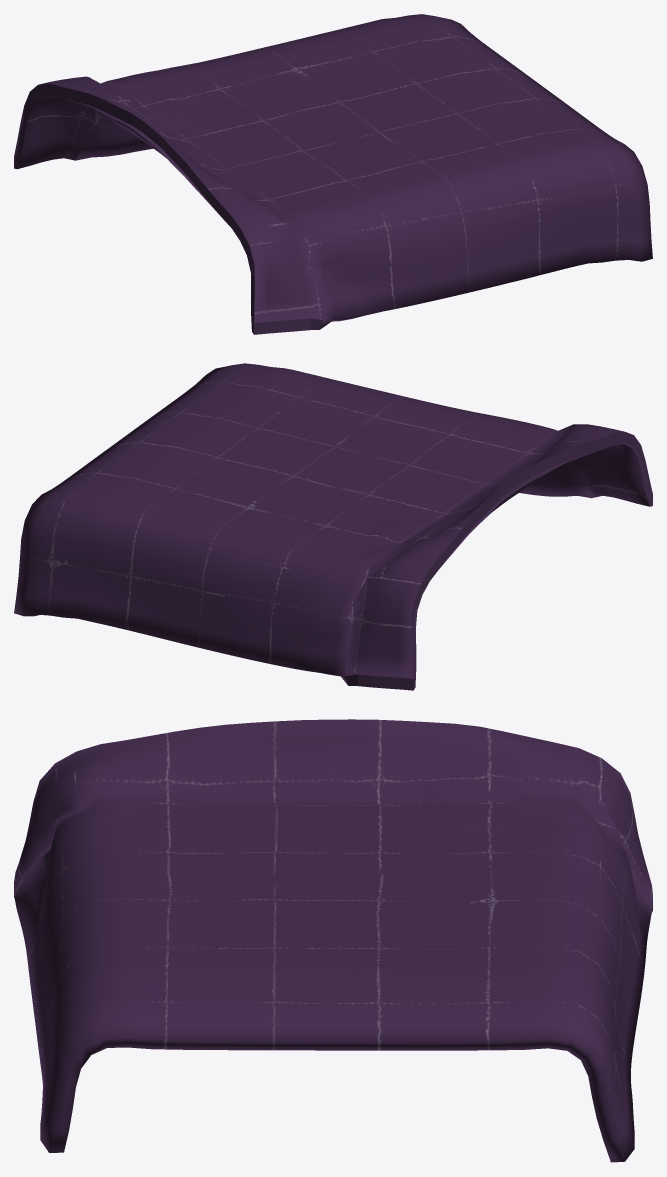
File: Cubrecama.fbx
3 views of the same model, one above another, from view 1: azimuth 30°, elevation 25°; view 2: azimuth 150°, elevation 25°; view 3: azimuth 270°, elevation 25° (orthographic). The views are drawn at different scales.
Parts seen in each view (by area): view 1: Plane.007; view 2: Plane.007; view 3: Plane.007.
Boxes of the visible parts, x1=… form: Plane.007: x1=14, y1=14, x2=652, y2=334; Plane.007: x1=14, y1=363, x2=652, y2=690; Plane.007: x1=14, y1=719, x2=652, y2=1162.
Bounding box in the file's own units: 476 × 173 × 500.
Materials: 1 (1 with a texture image).
